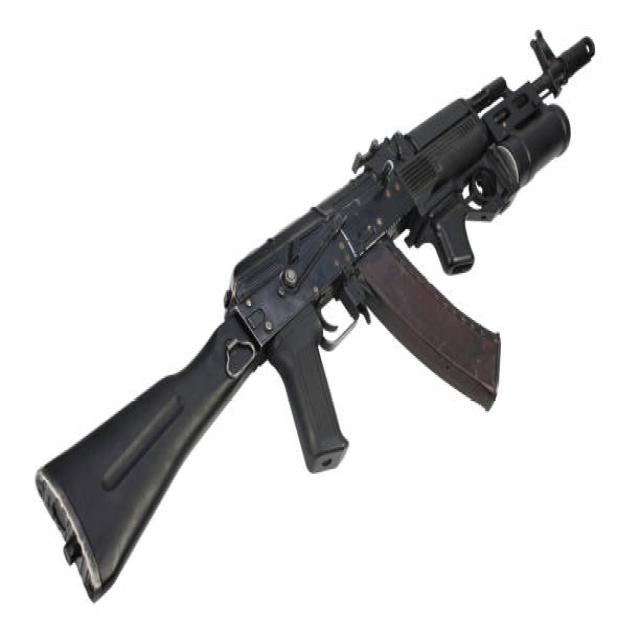rifle: (33, 24, 600, 610)
